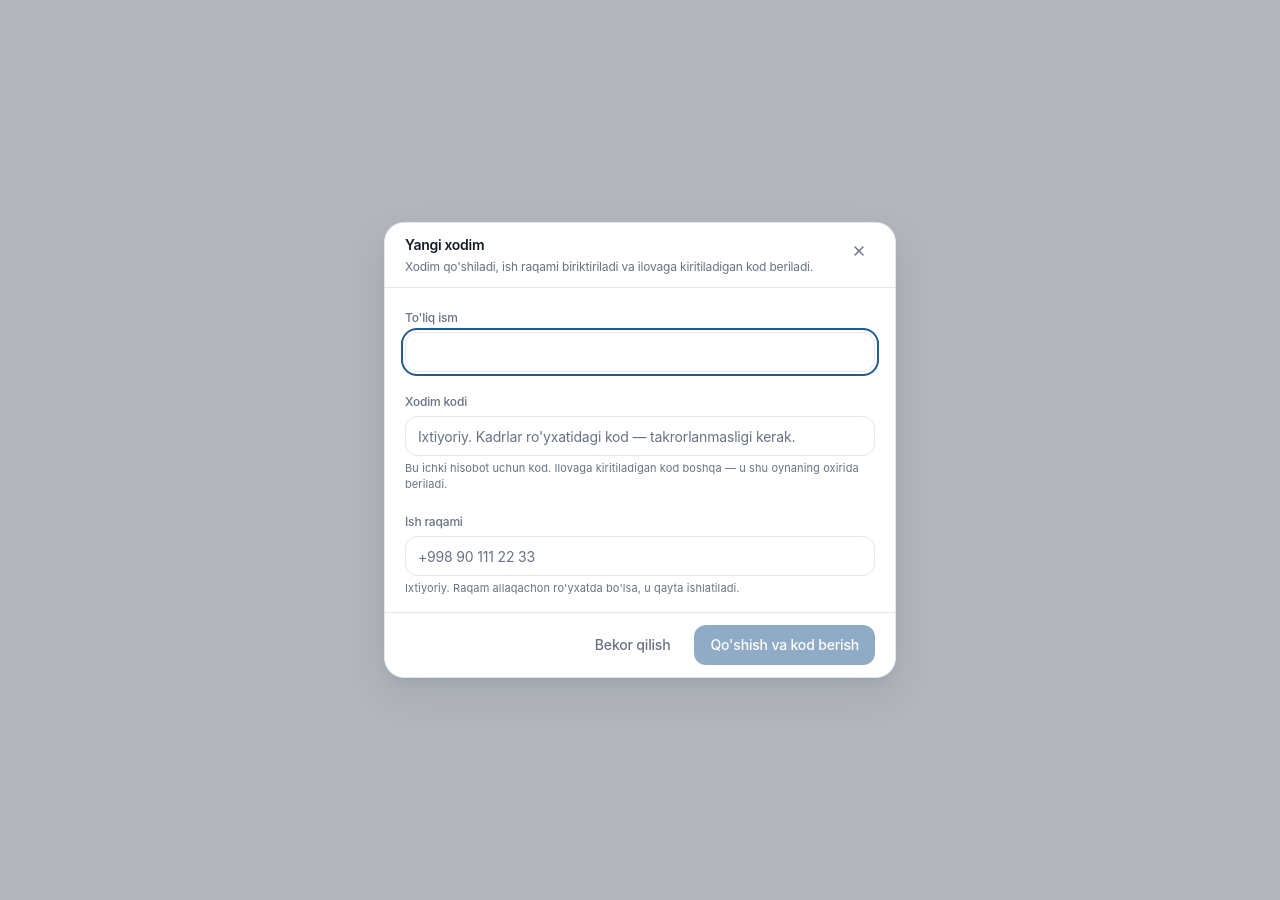
Scenario: one dialog, one outcome › ends on the code rather than closing
Type "Aziz Karimov" into the field labelled "To'liq ism".
click(640, 352); type("Aziz Karimov")  # box [405,332,875,372]
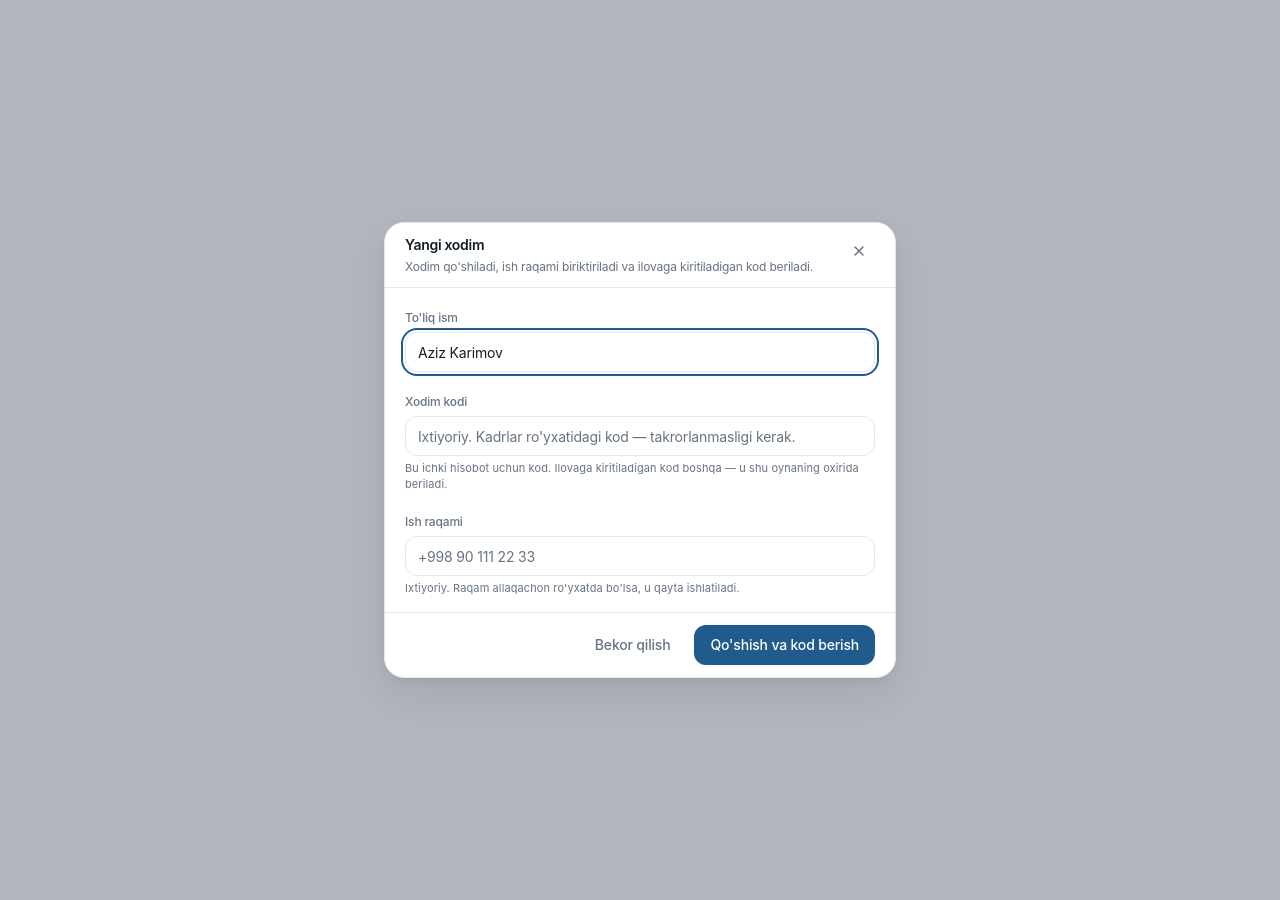
Type "+998901112233" into the field labelled "Ish raqami".
click(640, 556); type("+998901112233")  # box [405,536,875,576]
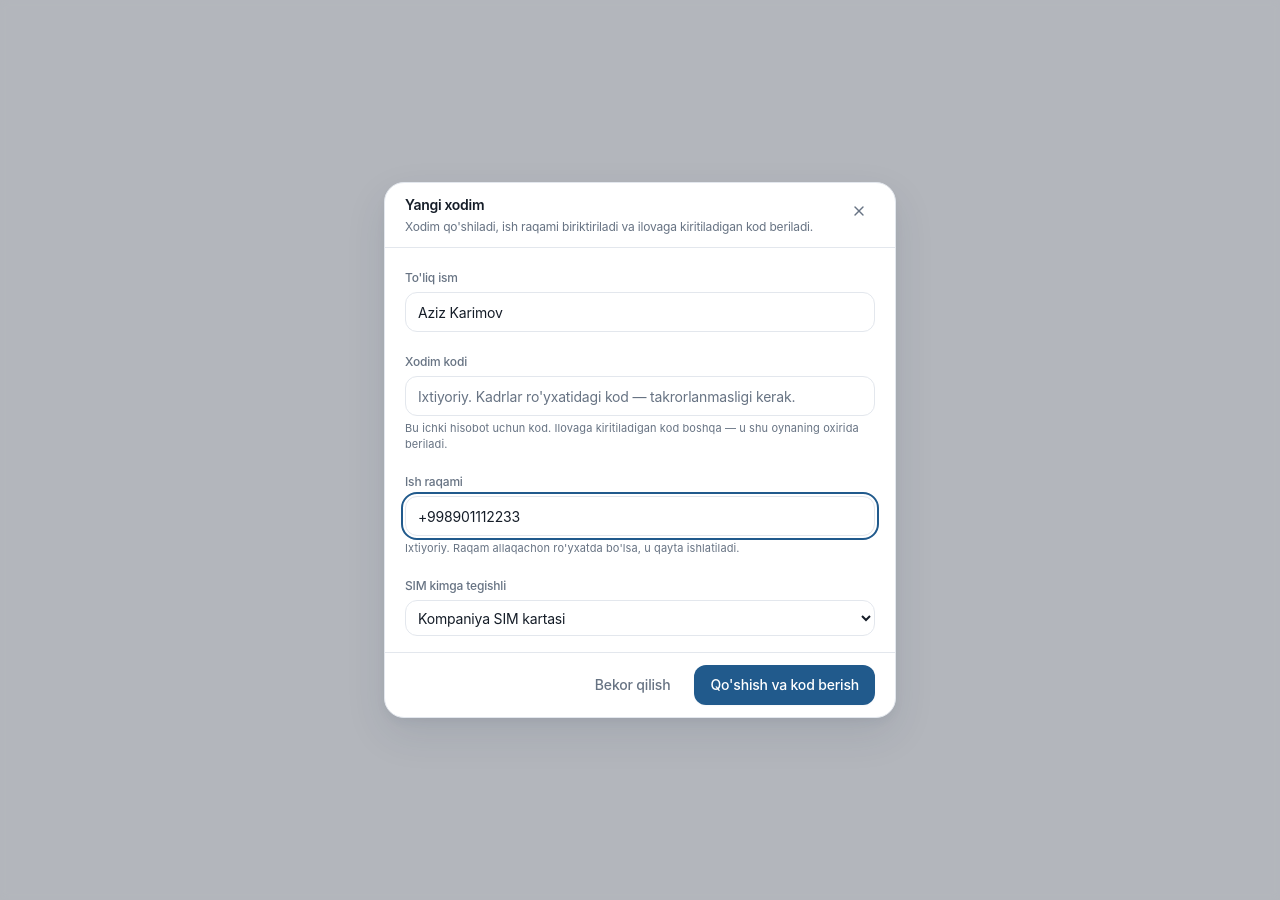
Click the button "Qo'shish va kod berish".
click(785, 685)  # box [694,665,875,705]
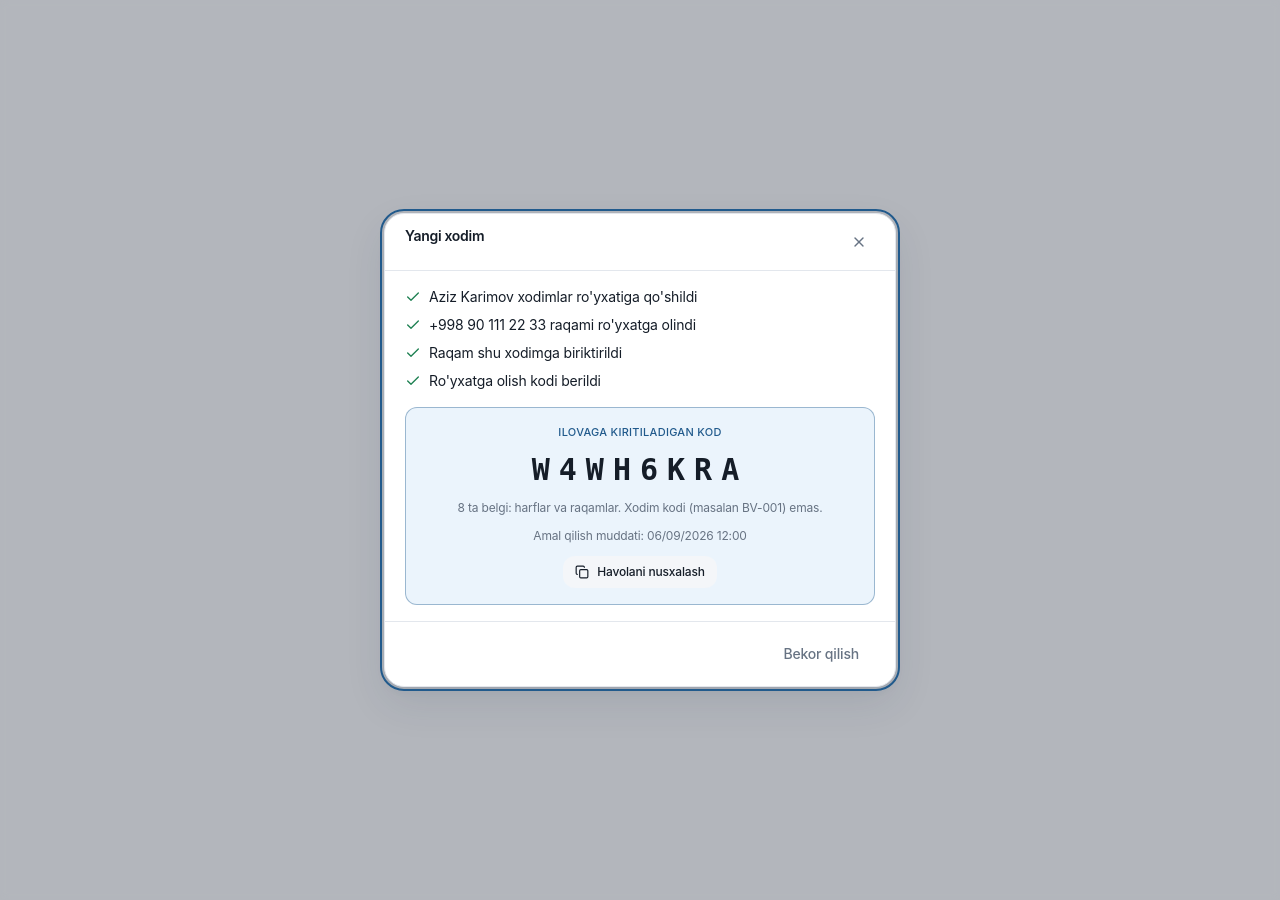
Now the text "W4WH6KRA" is shown, box [532,452,748,487]
